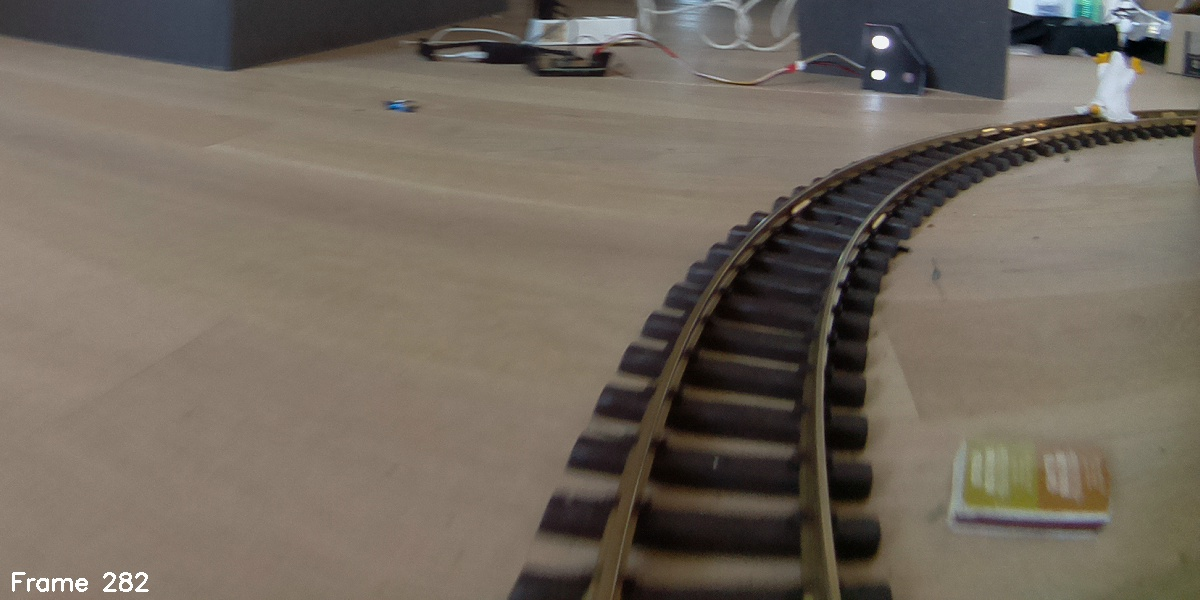Ente: (1074, 54, 1146, 127)
Fahrt: (858, 22, 924, 93)
